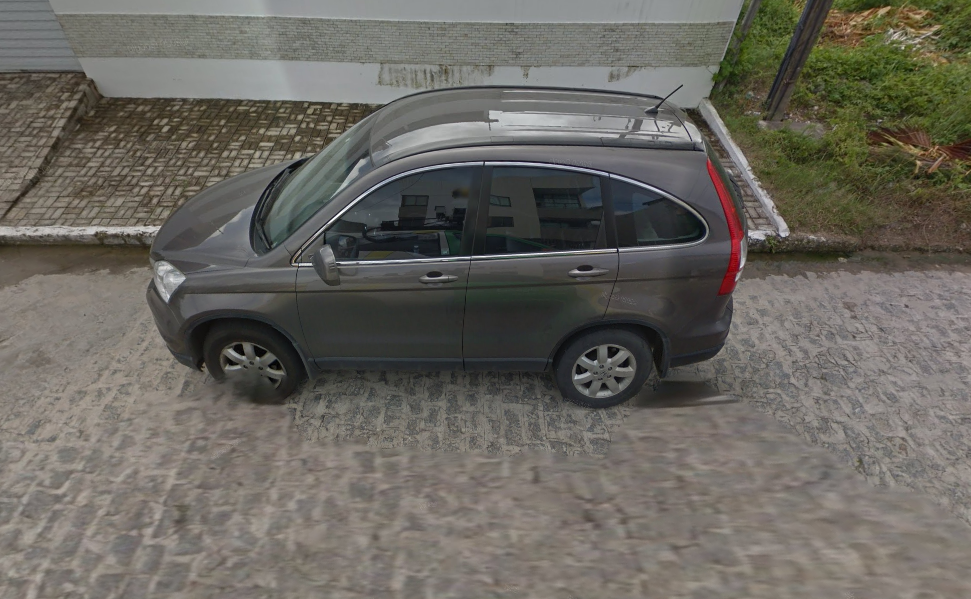car: (145, 83, 754, 409)
